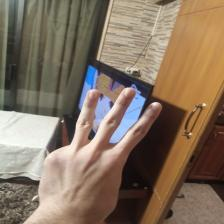five: (40, 86, 163, 203)
